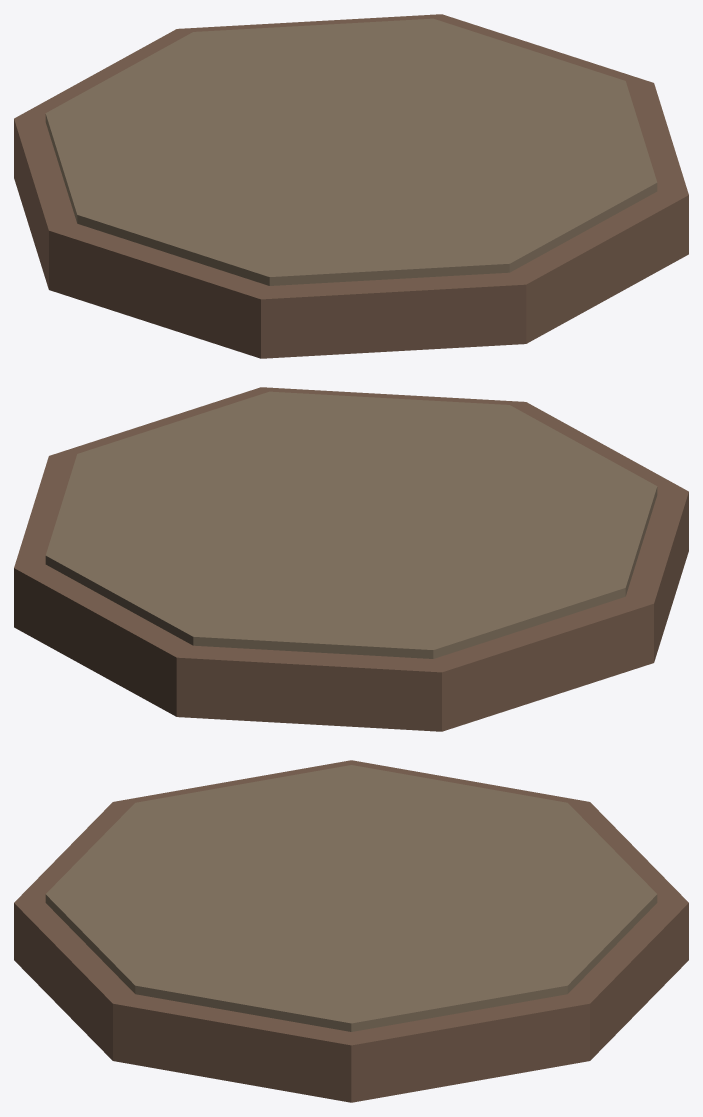
Rendered from haunted_platform_octagon.glb.
The picture shows the model from 3 angles, top to bottom: view 1: azimuth 30°, elevation 25°; view 2: azimuth 150°, elevation 25°; view 3: azimuth 270°, elevation 25°; orthographic projection. The views are drawn at different scales.
Visible parts, largest first — view 1: Haunted_Platform_Octagon; view 2: Haunted_Platform_Octagon; view 3: Haunted_Platform_Octagon.
Boxes of the visible parts, bbox=[...] form: Haunted_Platform_Octagon: bbox=[14, 14, 688, 358]; Haunted_Platform_Octagon: bbox=[14, 387, 688, 731]; Haunted_Platform_Octagon: bbox=[14, 760, 688, 1102].
Bounding box in the file's own units: 3.2 × 0.345 × 3.2.
